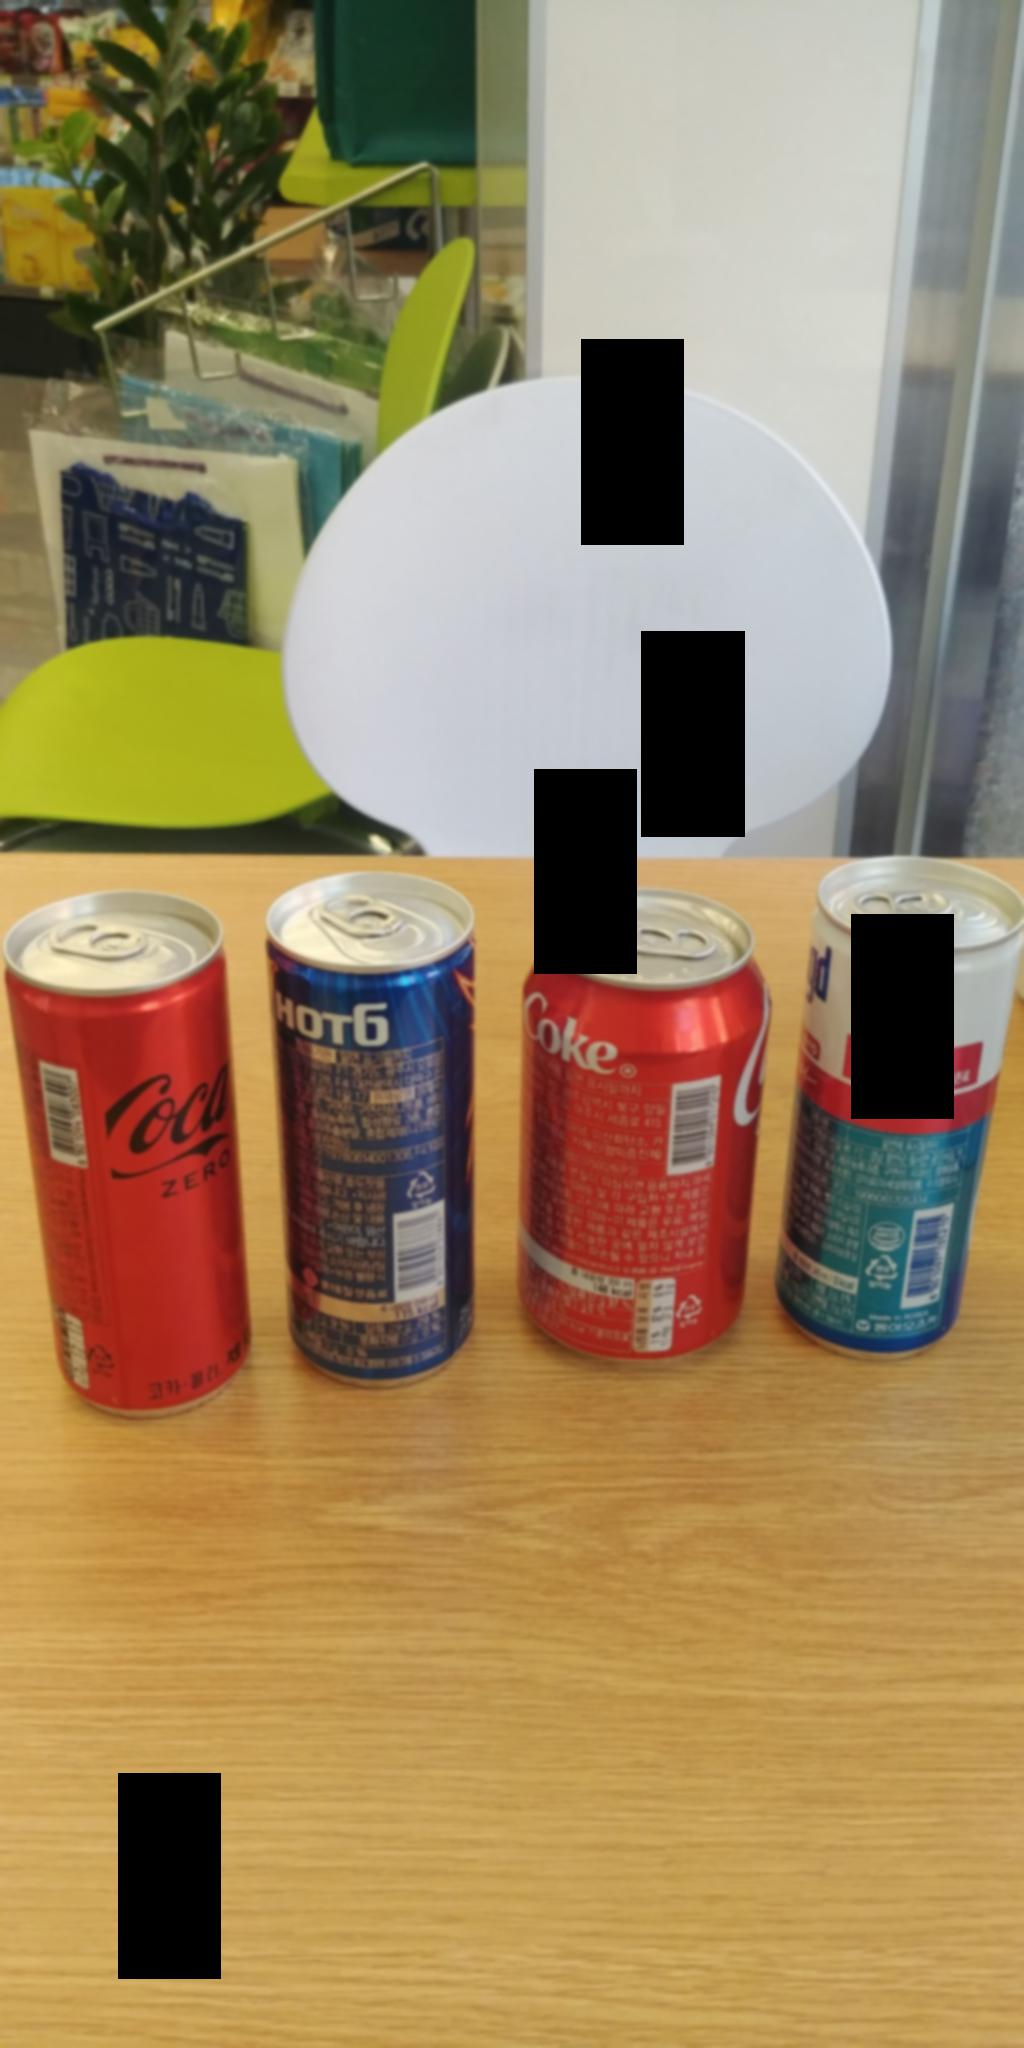cocacola: (534, 857, 764, 1374)
hotsix_org: (277, 882, 465, 1381)
narangdcider: (805, 852, 1024, 1353)
